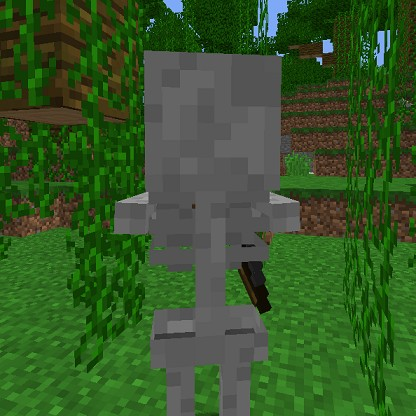skeleton: (109, 44, 313, 329)
